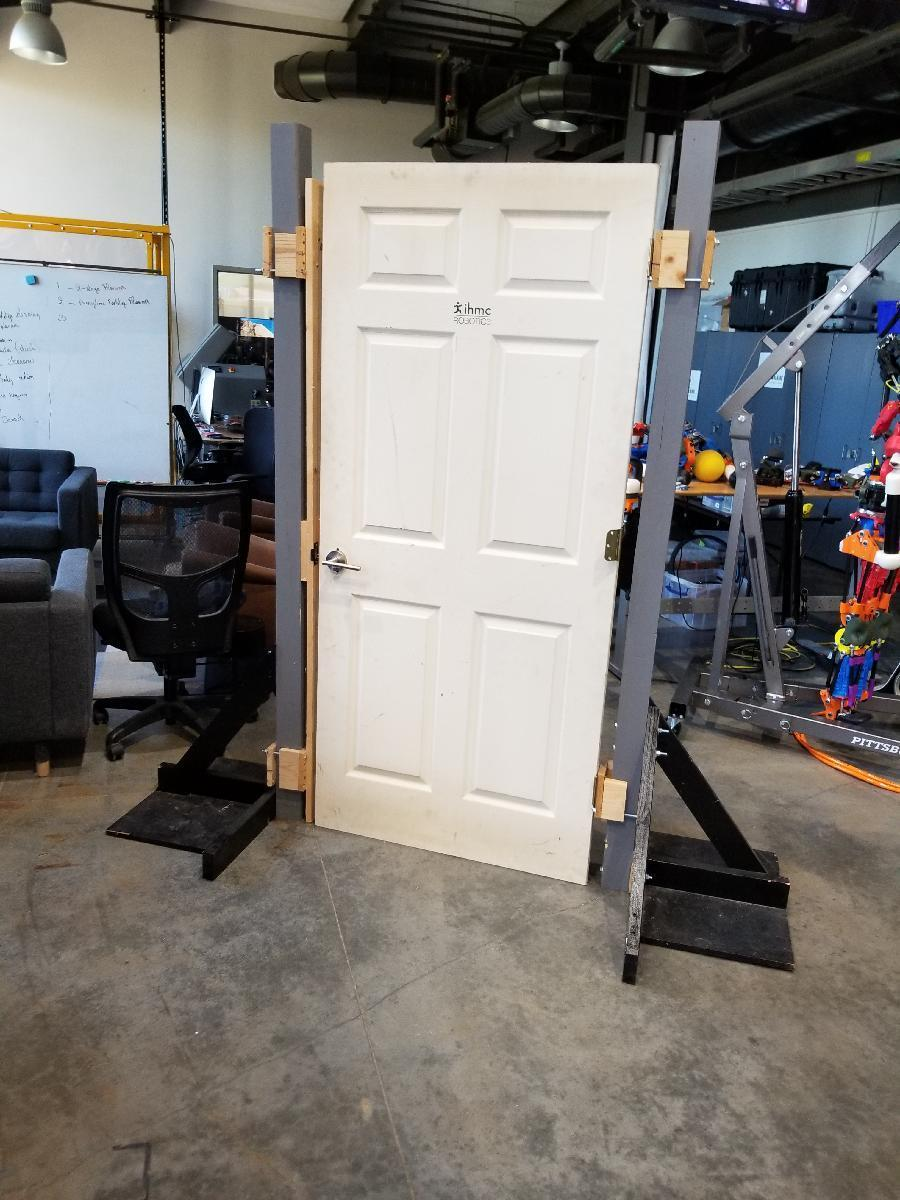door: (316, 160, 612, 867)
handle: (322, 546, 366, 582)
